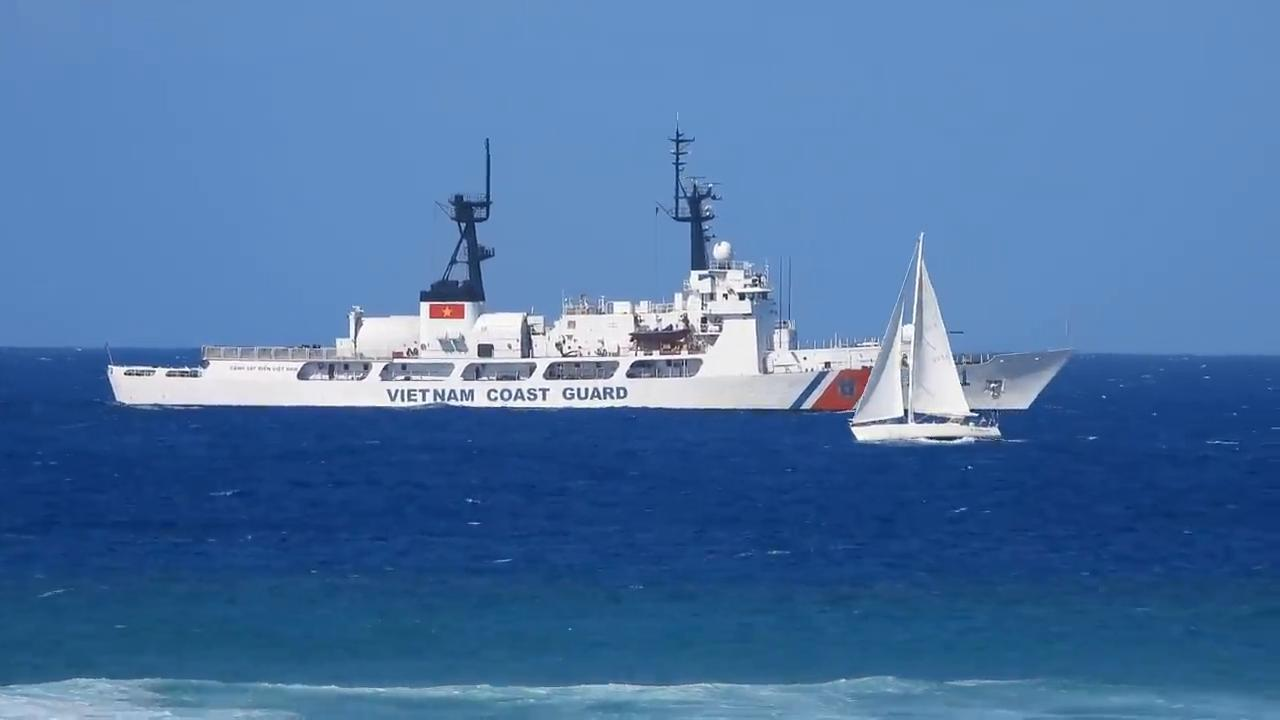Ship: (109, 127, 1081, 412), (851, 227, 999, 447)
